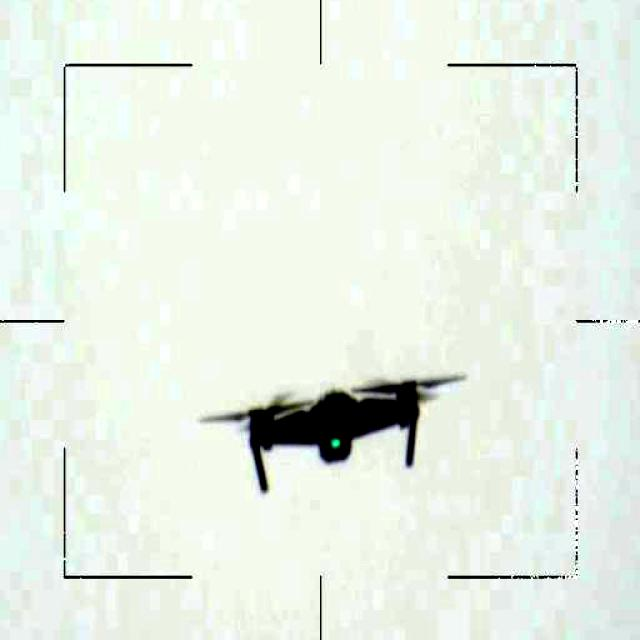bird: (195, 360, 470, 494)
